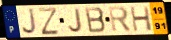B: (84, 6, 108, 34)
H: (129, 5, 154, 33)
J: (21, 7, 39, 35), (68, 8, 83, 34)
R: (108, 6, 133, 34)
Z: (37, 7, 61, 36)
